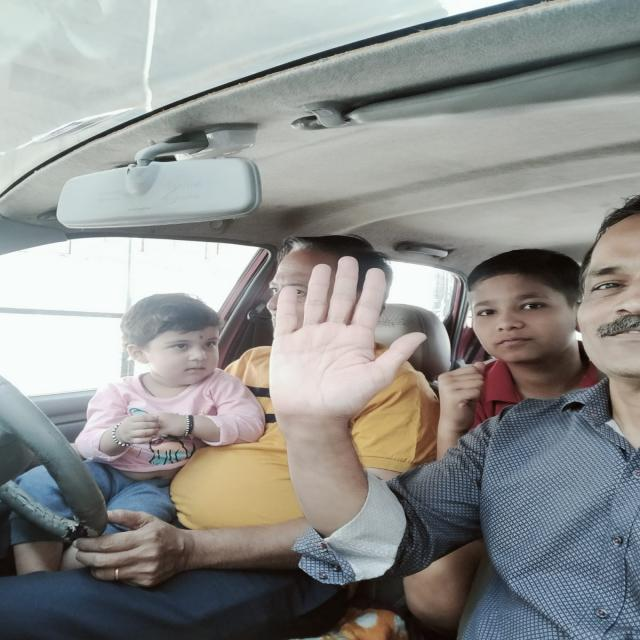child: (118, 298, 234, 386)
person: (454, 242, 575, 373), (582, 200, 640, 407), (264, 234, 394, 316)
